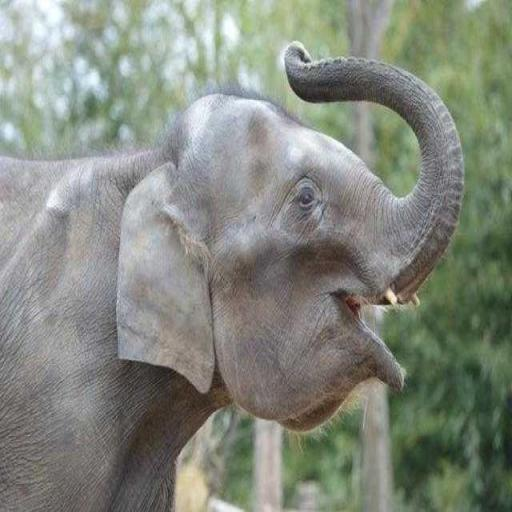Elephant: (0, 38, 464, 512)
